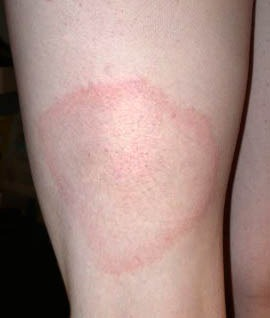Ringworm: (29, 85, 227, 275)
